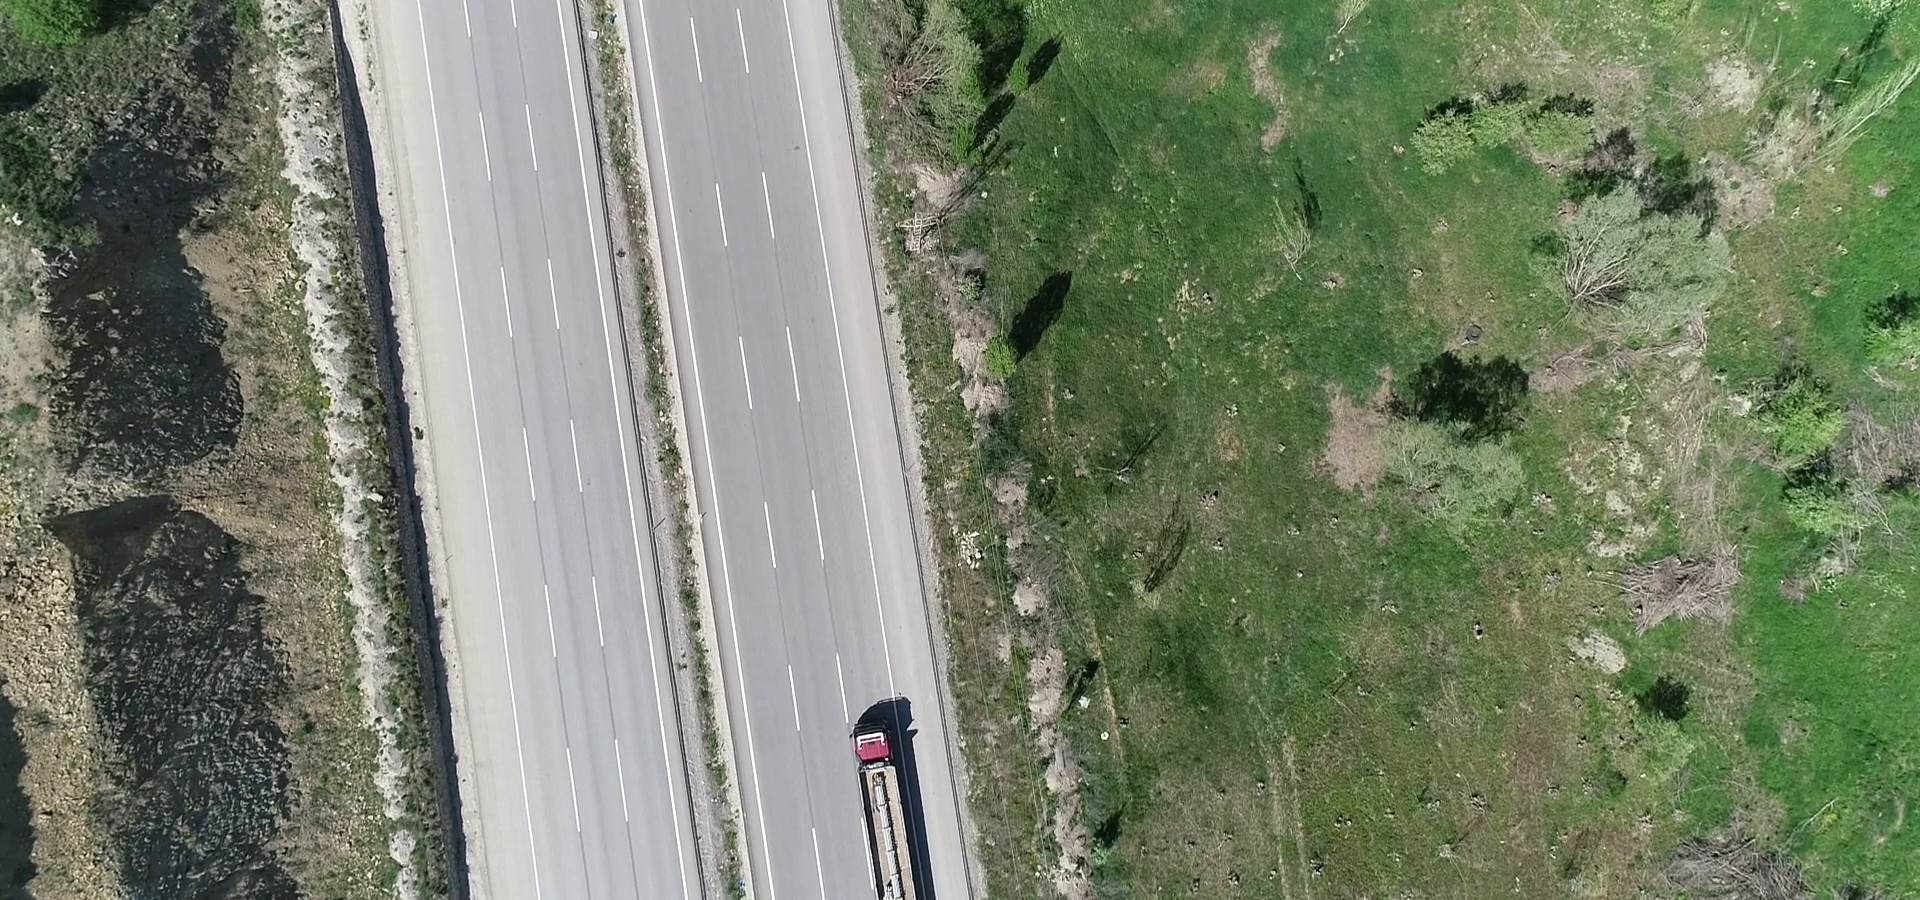arac: (838, 722, 933, 900)
